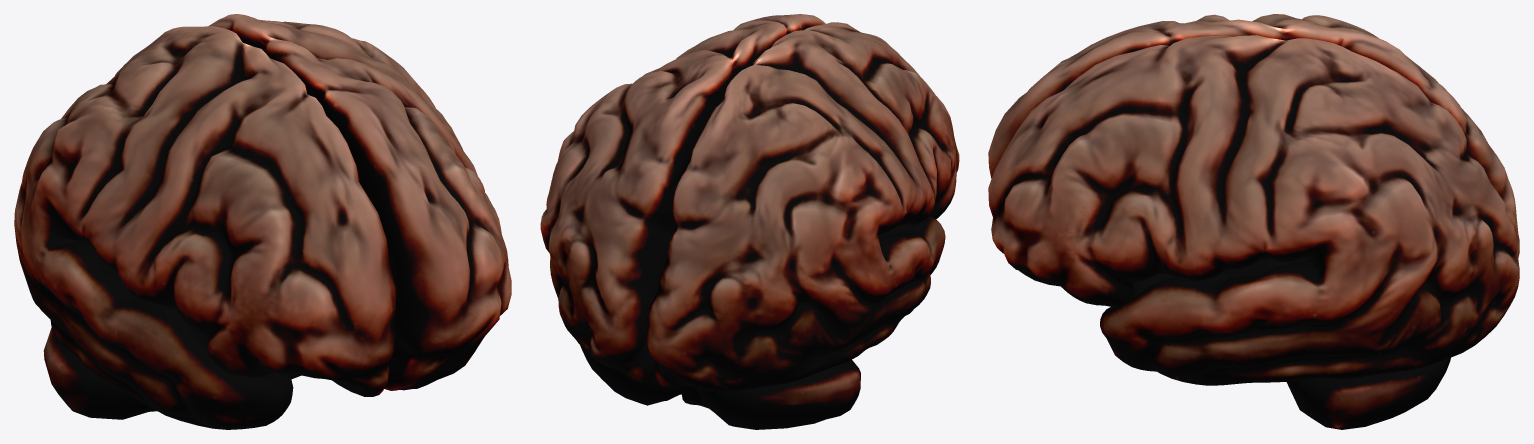
File: cerebro_brain2.glb
3 renders of one model, left to right at view 1: azimuth 30°, elevation 25°; view 2: azimuth 150°, elevation 25°; view 3: azimuth 270°, elevation 25°, orthographic. The views are drawn at different scales.
Visible parts, largest first — view 1: BRAIN; view 2: BRAIN; view 3: BRAIN.
Part boxes in pixels (x1=…): BRAIN: x1=14, y1=14, x2=511, y2=429; BRAIN: x1=540, y1=14, x2=959, y2=429; BRAIN: x1=988, y1=14, x2=1519, y2=429.
Bounding box in the file's own units: 5.2 × 4.74 × 6.44.
Materials: 1 (1 with a texture image).
